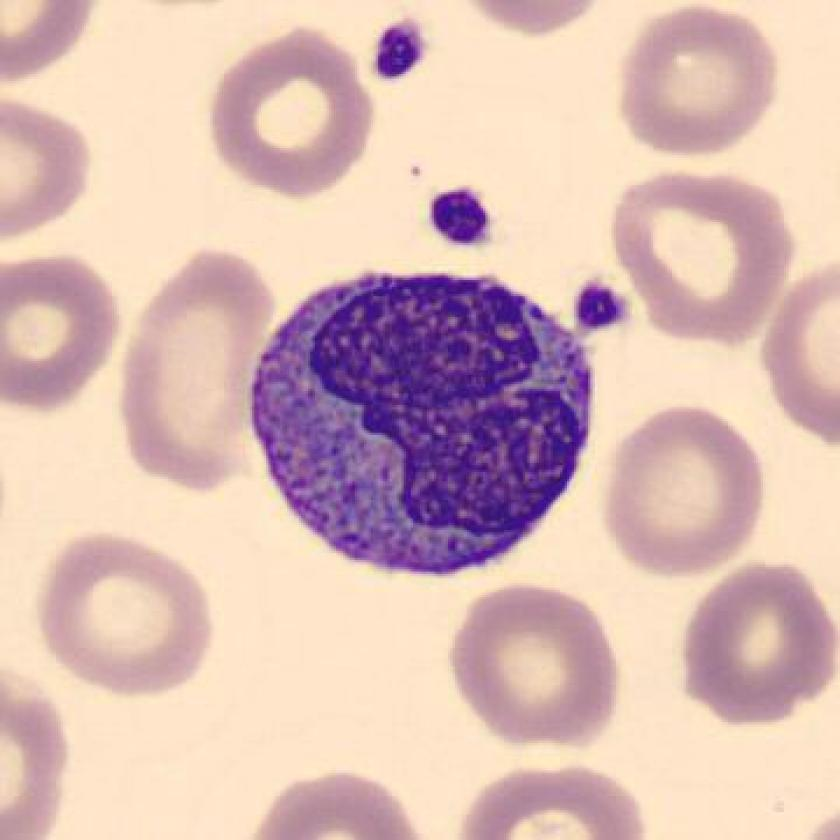monocyte: (230, 258, 619, 586)
